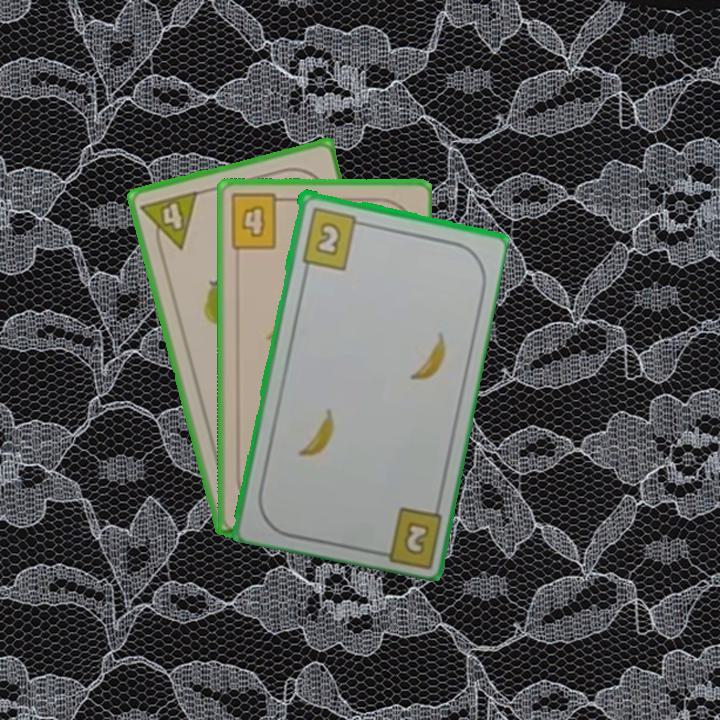2b: (298, 203, 368, 272), (399, 517, 432, 558)
4b: (226, 191, 290, 252)
4p: (137, 187, 201, 257)
